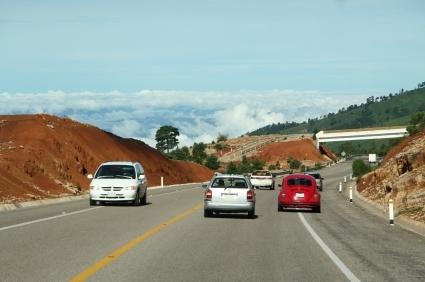car: (88, 158, 150, 205), (203, 175, 255, 215), (279, 173, 321, 210), (246, 166, 275, 191)
